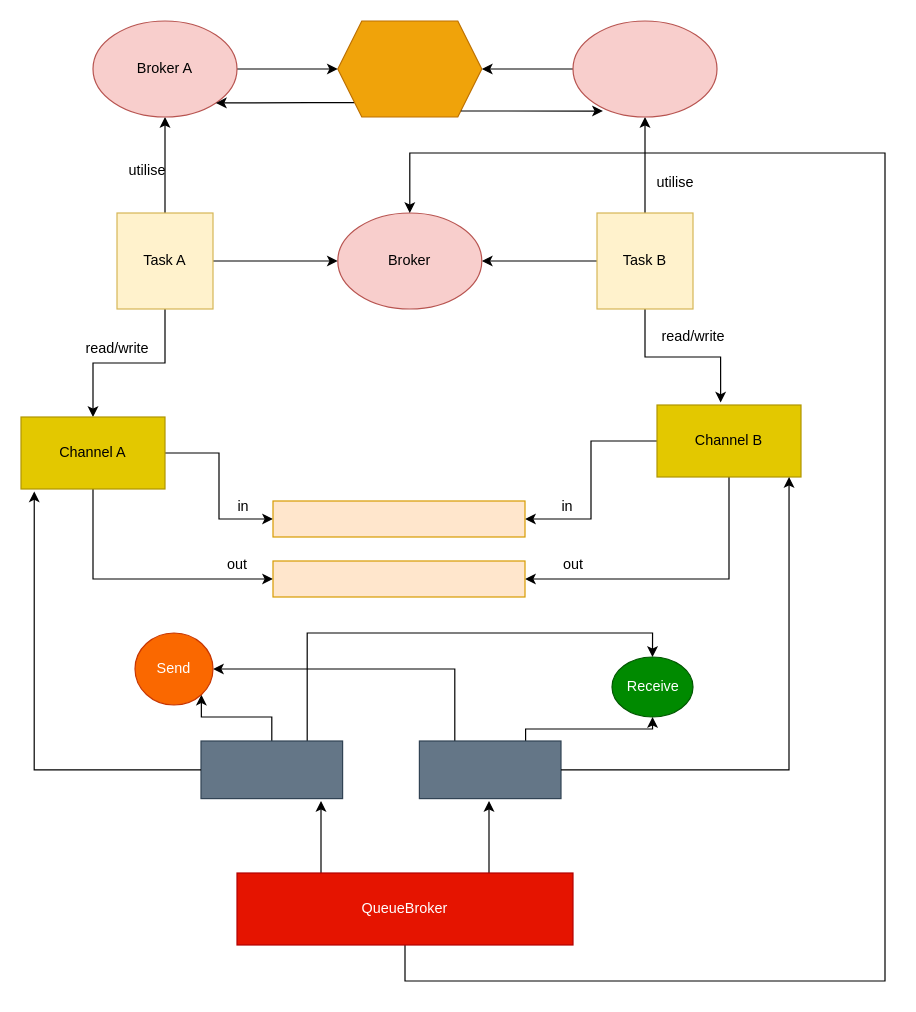
This 916x1012 diagram has some shape labels left out. The shapes that lost their labels are listed below. From the top down, each one's centre as x and y in pixels, then its label:
point (409, 68): Broker Manager
point (644, 68): Broker B
point (271, 769): MessageQueue A
point (489, 769): MessageQueue B
